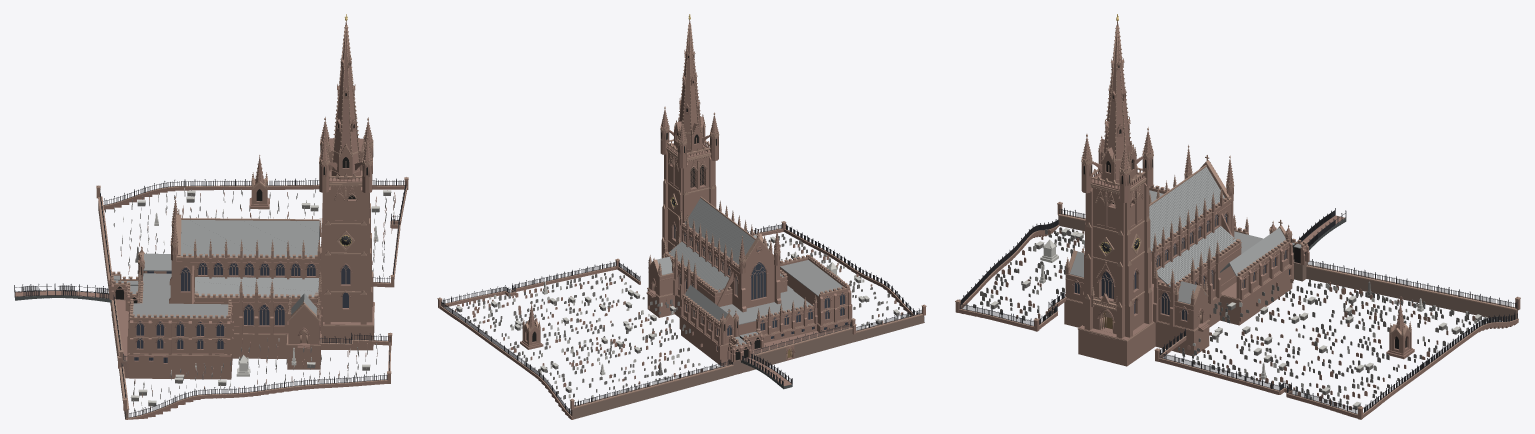
The model's file is trinity-church.glb.
3 renders of one model, left to right at view 1: azimuth 30°, elevation 25°; view 2: azimuth 150°, elevation 25°; view 3: azimuth 270°, elevation 25°, orthographic. The views are drawn at different scales.
Visible parts, largest first — view 1: trinity-church; view 2: trinity-church; view 3: trinity-church.
Part boxes in pixels (left/top/right/bottom): trinity-church: left=14, top=14, right=408, bottom=419; trinity-church: left=437, top=14, right=926, bottom=419; trinity-church: left=955, top=14, right=1520, bottom=419.
Bounding box in the file's own units: 129 × 92.44 × 141.
